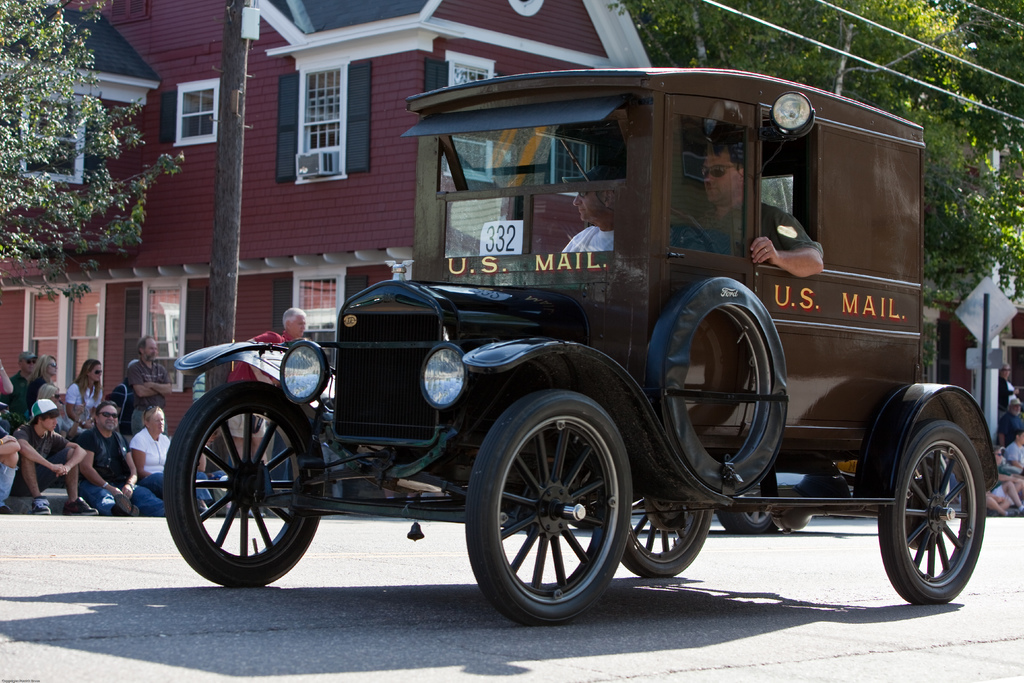person: (127, 403, 173, 497)
